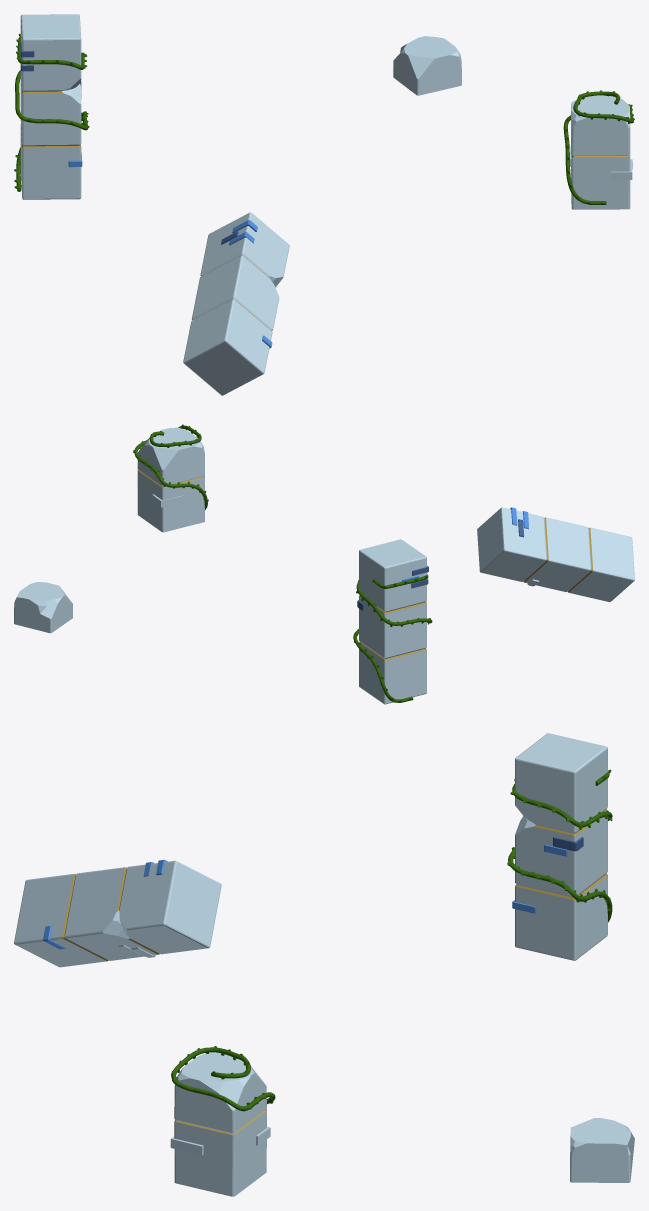
Rendered from Checkpoint Pillars.fbx.
The picture shows the model from 3 angles, top to bottom: view 1: azimuth 30°, elevation 25°; view 2: azimuth 150°, elevation 25°; view 3: azimuth 270°, elevation 25°; orthographic projection. The views are drawn at different scales.
Parts seen in each view (by area): view 1: Pillar 2, Pillar 1, Pillar 3, Pillar 4, Creeper 1, Creeper 3; view 2: Pillar 2, Pillar 1, Pillar 3, Pillar 4, Creeper 1, Creeper 3; view 3: Pillar 1, Pillar 2, Pillar 3, Pillar 4, Creeper 1, Creeper 3.
Boxes of the visible parts, x1,y1,x2,y2 form: Pillar 2: [183, 212, 289, 395]; Pillar 1: [20, 14, 82, 199]; Pillar 3: [570, 95, 632, 209]; Pillar 4: [393, 36, 461, 95]; Creeper 1: [14, 33, 89, 191]; Creeper 3: [563, 90, 634, 204]; Pillar 2: [477, 507, 634, 602]; Pillar 1: [357, 539, 428, 704]; Pillar 3: [137, 427, 204, 532]; Pillar 4: [14, 582, 72, 633]; Creeper 1: [353, 572, 432, 702]; Creeper 3: [133, 424, 208, 509]; Pillar 1: [512, 733, 607, 960]; Pillar 2: [14, 859, 221, 967]; Pillar 3: [170, 1052, 270, 1196]; Pillar 4: [570, 1118, 634, 1182]; Creeper 1: [507, 769, 612, 922]; Creeper 3: [171, 1046, 275, 1111].
Bounding box in the file's own units: 1420 × 533 × 1255.
